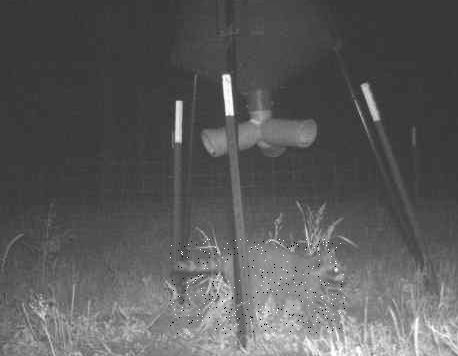Raccoon: (170, 239, 345, 334)
